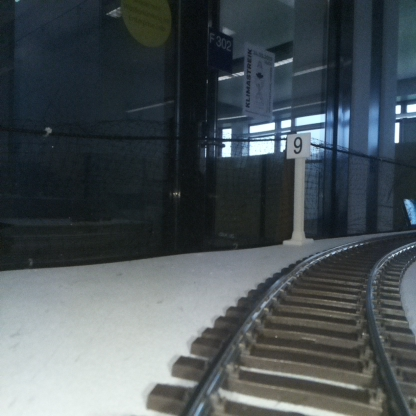white-info-9: (287, 133, 310, 243)
